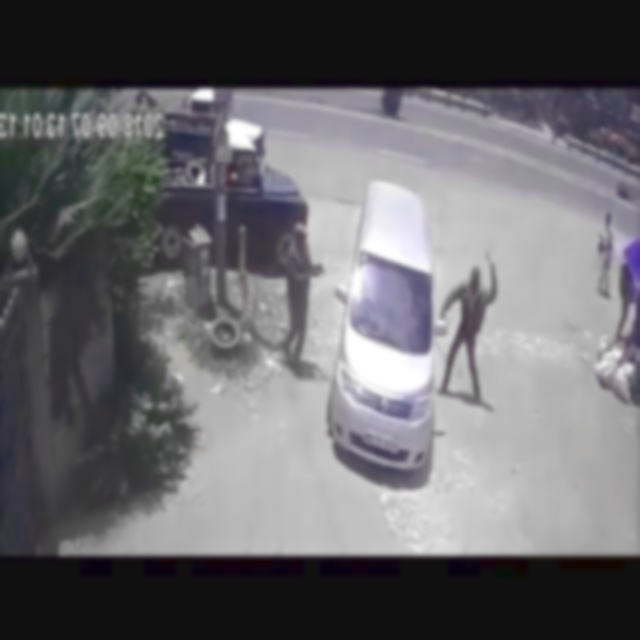gun: (483, 244, 497, 269), (317, 258, 328, 274)
